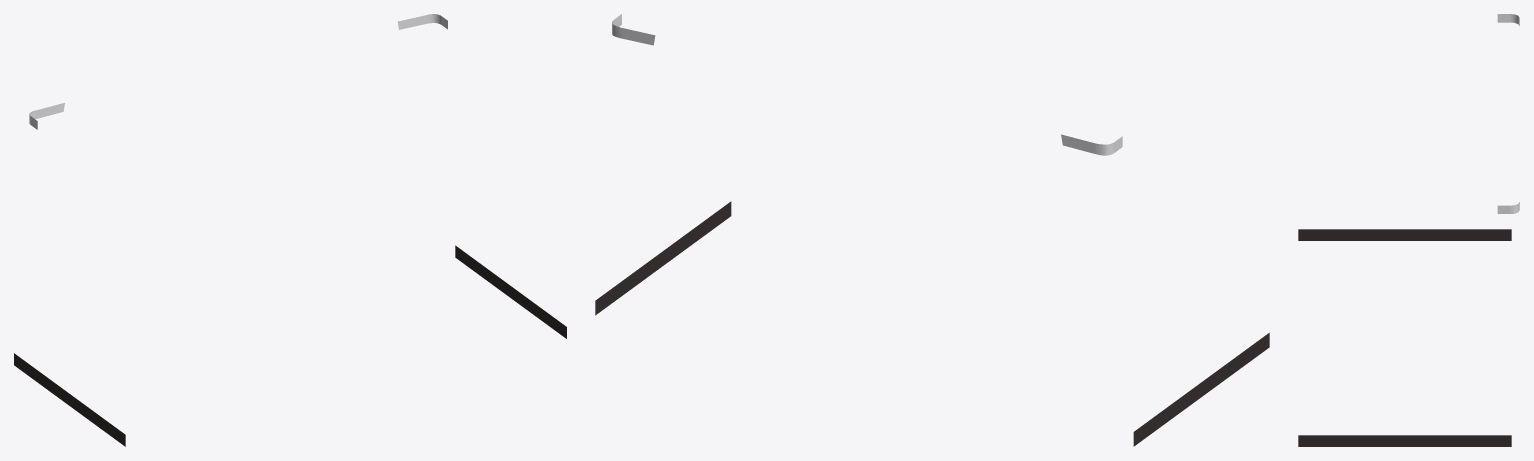
File: 294 670-5 mesh sides.obj
3 views of the same model, side by side, from view 1: azimuth 30°, elevation 25°; view 2: azimuth 150°, elevation 25°; view 3: azimuth 270°, elevation 25° (orthographic). The views are drawn at different scales.
Parts seen in each view (by area): view 1: Plane.001, Plane.003; view 2: Plane.001, Plane.003; view 3: Plane.001, Plane.003.
Boxes of the visible parts, x1=… form: Plane.001: x1=14, y1=245, x2=566, y2=446; Plane.003: x1=29, y1=14, x2=447, y2=129; Plane.001: x1=595, y1=201, x2=1269, y2=446; Plane.003: x1=612, y1=14, x2=1122, y2=155; Plane.001: x1=1298, y1=229, x2=1511, y2=446; Plane.003: x1=1497, y1=14, x2=1519, y2=213.
Size of the model in its own units: 3.01 by 1.6 by 1.37.
